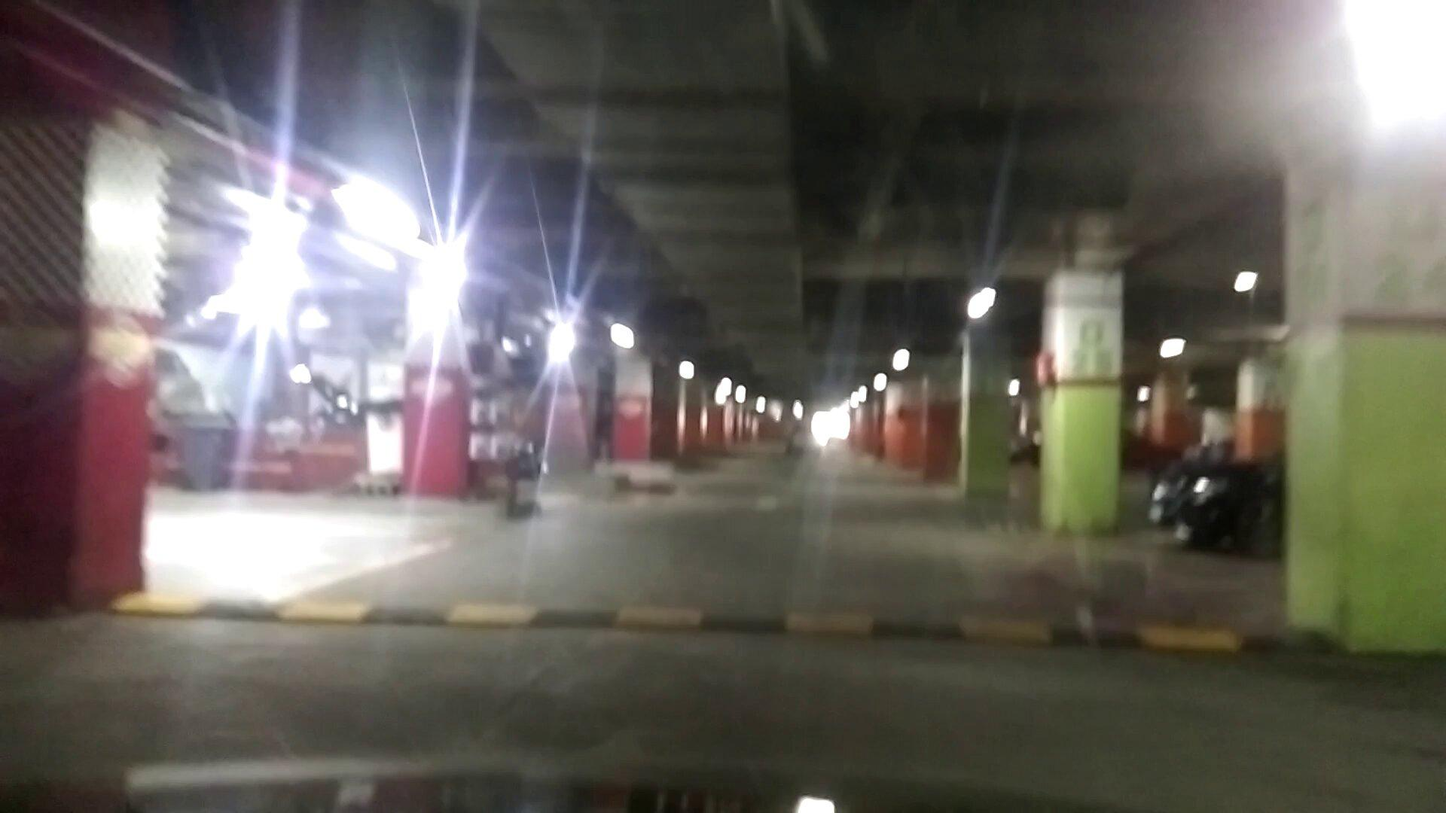Bump: (137, 580, 1327, 681)
